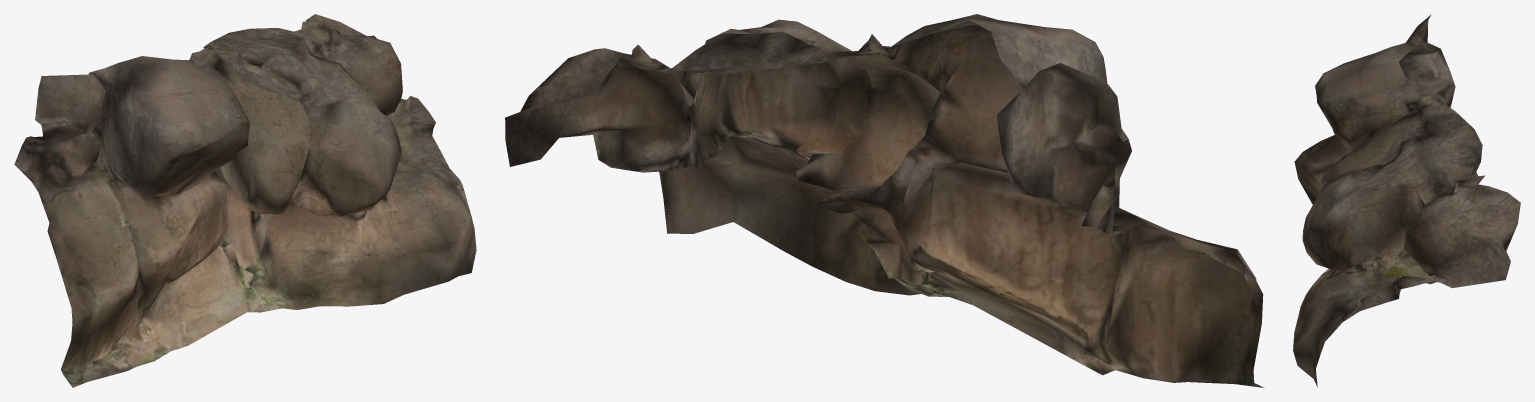
Rendered from crag.glb.
3 renders of one model, left to right at view 1: azimuth 30°, elevation 25°; view 2: azimuth 150°, elevation 25°; view 3: azimuth 270°, elevation 25°, orthographic. The views are drawn at different scales.
Visible parts, largest first — view 1: drone_rock_01; view 2: drone_rock_01; view 3: drone_rock_01.
Part boxes in pixels (<box>): drone_rock_01: <box>14,14,476,387</box>; drone_rock_01: <box>505,14,1264,387</box>; drone_rock_01: <box>1293,14,1520,386</box>.
Bounding box in the file's own units: 8.27 × 4.95 × 4.37.
Materials: 1 (1 with a texture image).
